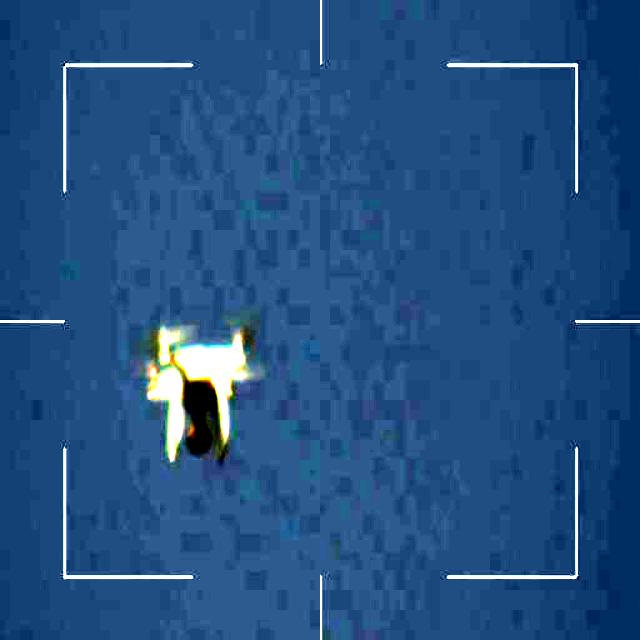bird: (122, 322, 262, 466)
